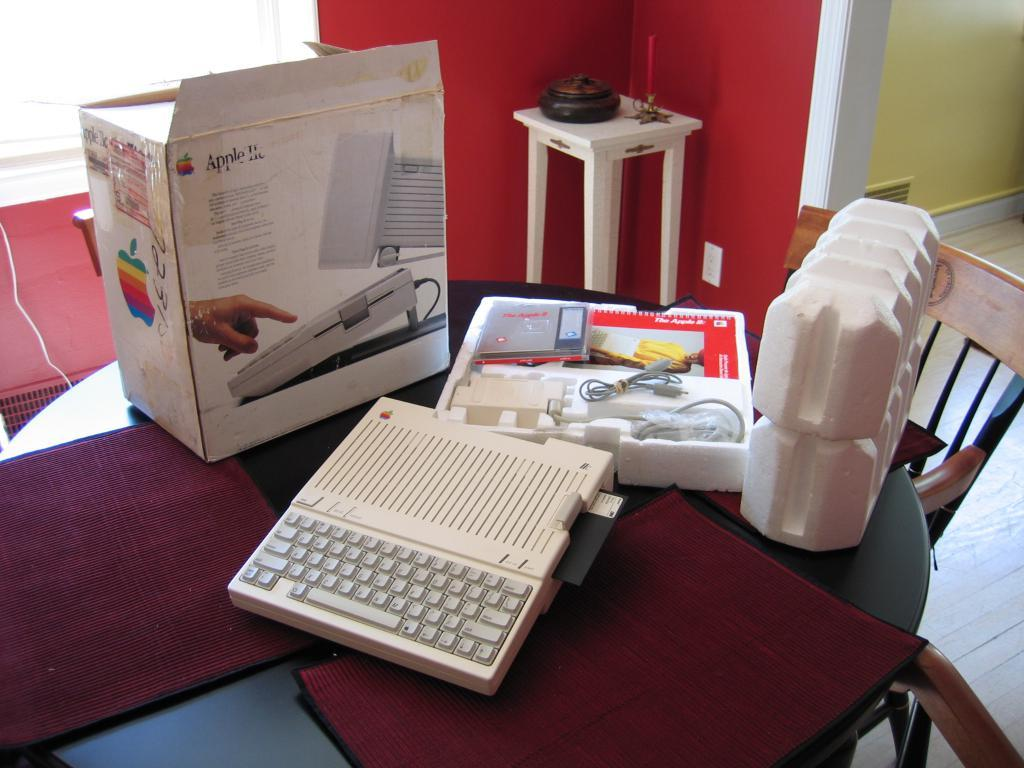Computer-keyboard: (237, 508, 532, 669)
